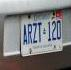0: (56, 19, 62, 40)
1: (47, 21, 52, 41)
2: (51, 20, 57, 41)
A: (22, 24, 28, 46)
R: (27, 23, 33, 45)
T: (37, 22, 43, 43)
Z: (32, 22, 38, 44)
